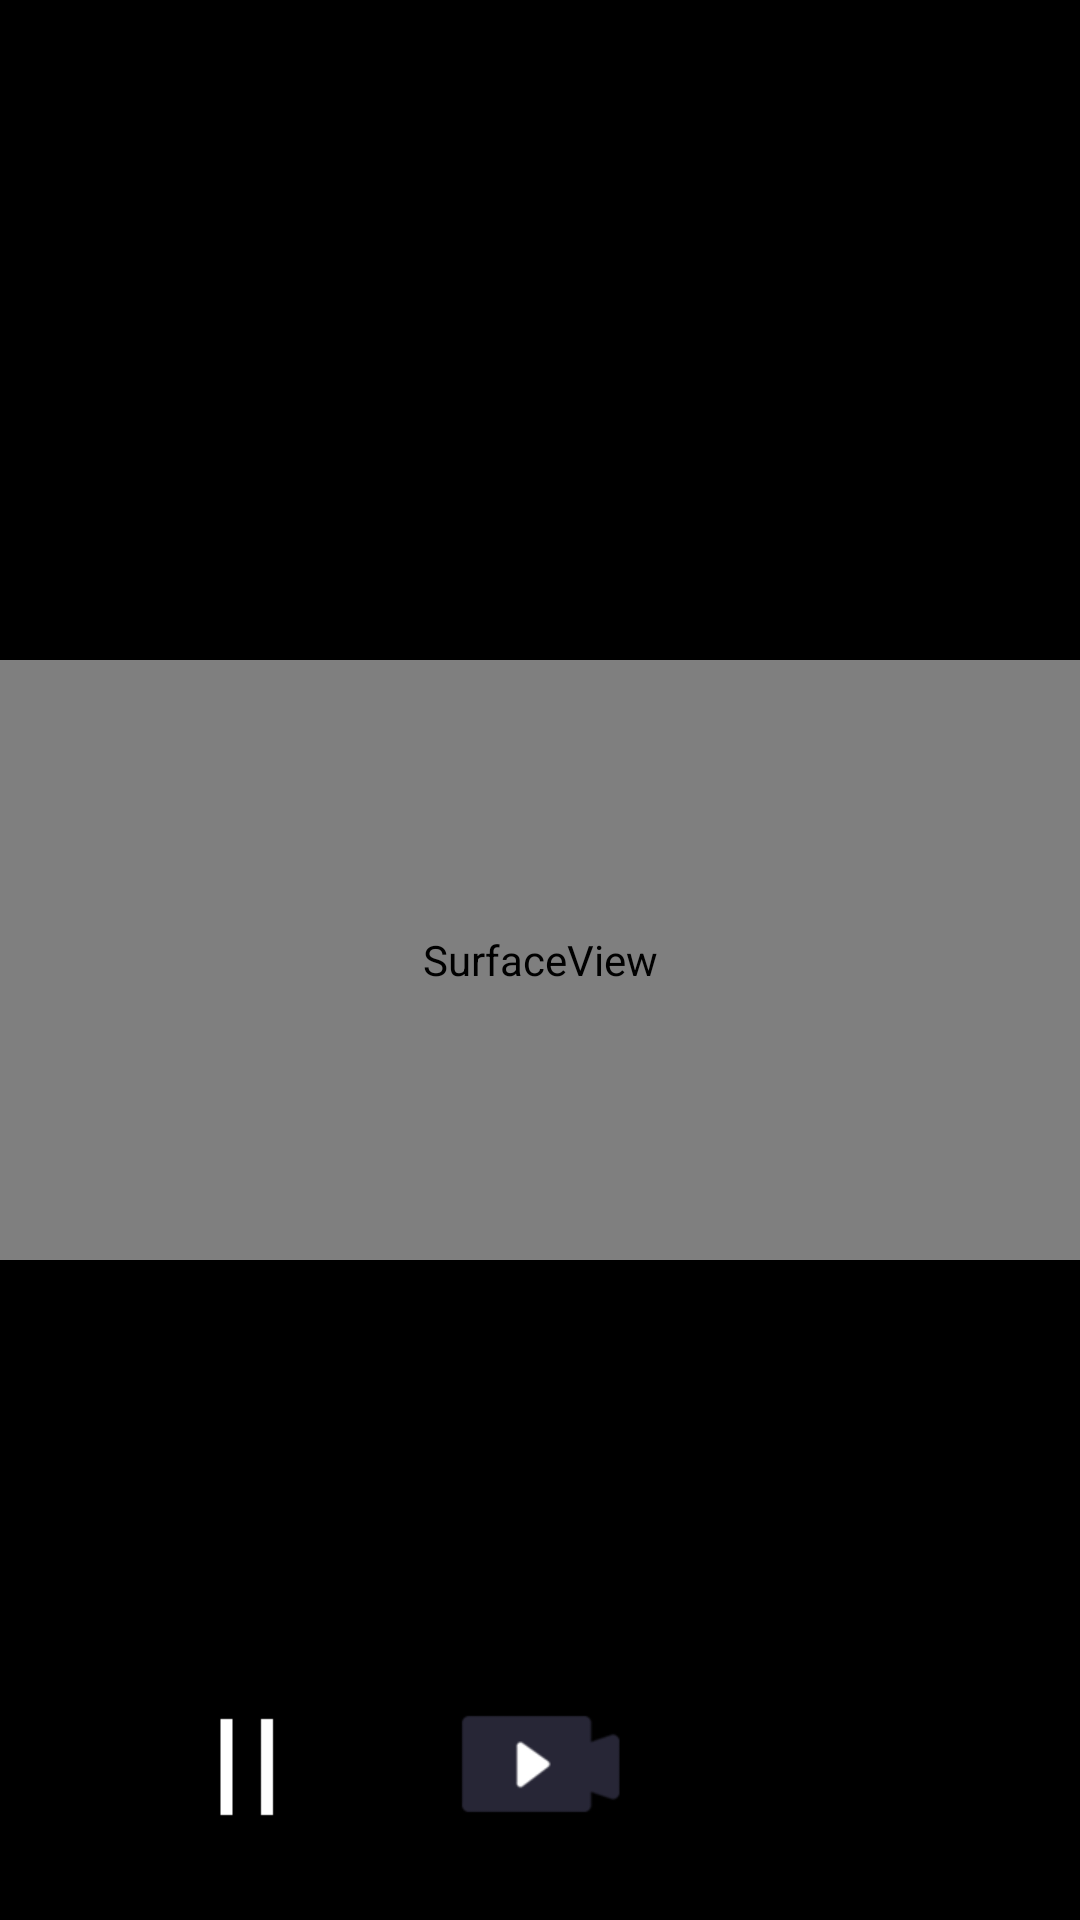

Locate icon controls on the screen. Image size 1080*1920, boxes as region(x1, y1, x2, y2).
pause: region(220, 1718, 274, 1816)
record: region(462, 1716, 619, 1812)
